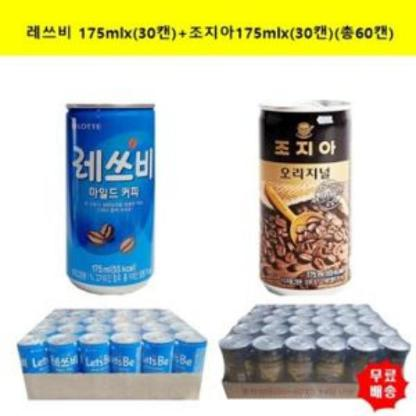Can: (255, 101, 359, 299), (64, 98, 154, 296)
